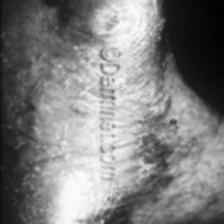Toxin: (0, 36, 84, 224), (119, 52, 176, 218), (26, 0, 134, 28), (70, 206, 124, 224)
